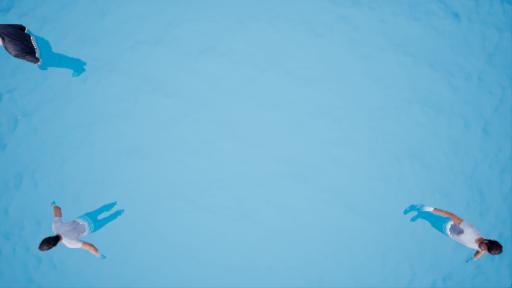person: (401, 195, 509, 269), (1, 12, 97, 82), (34, 195, 129, 259)
